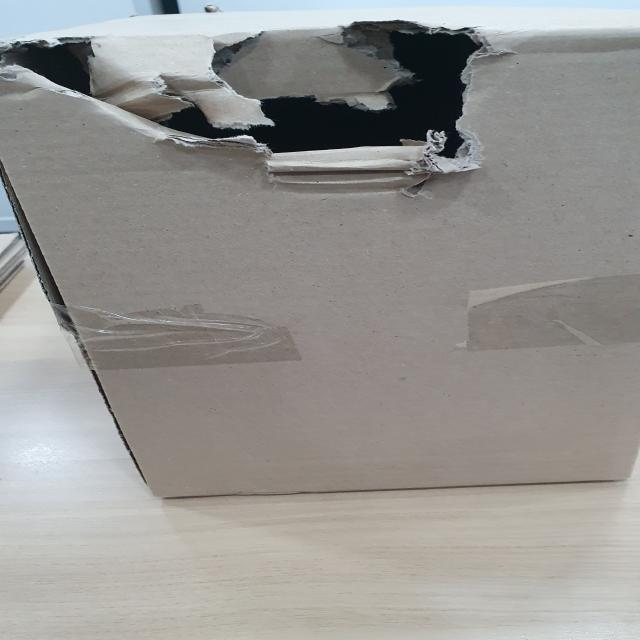hole: (2, 20, 491, 208)
